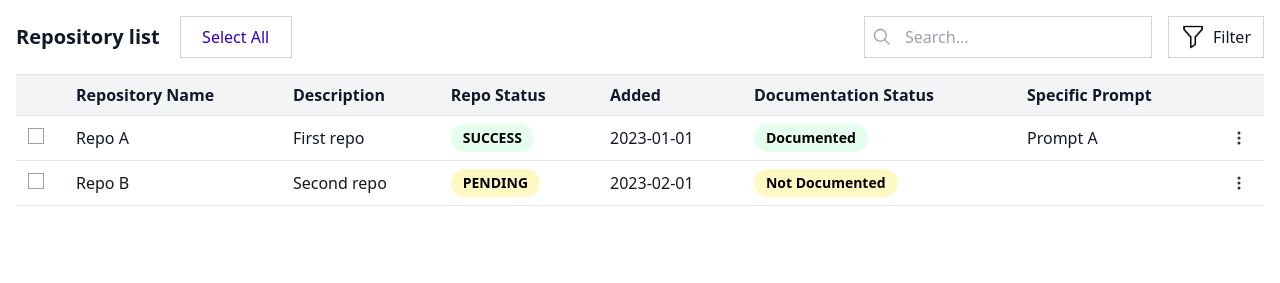
Test case: AdminRepoDataTable - Integration Tests › allows shift-select range
The image size is (1280, 283).
Click the text "First repo" at point(329, 138), box [293, 127, 364, 149]
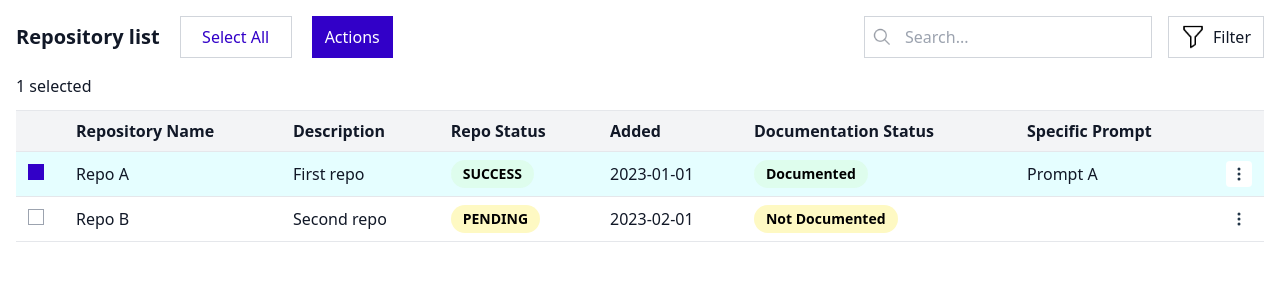
Click the text "Second repo" at point(340, 219), box [293, 208, 387, 230]
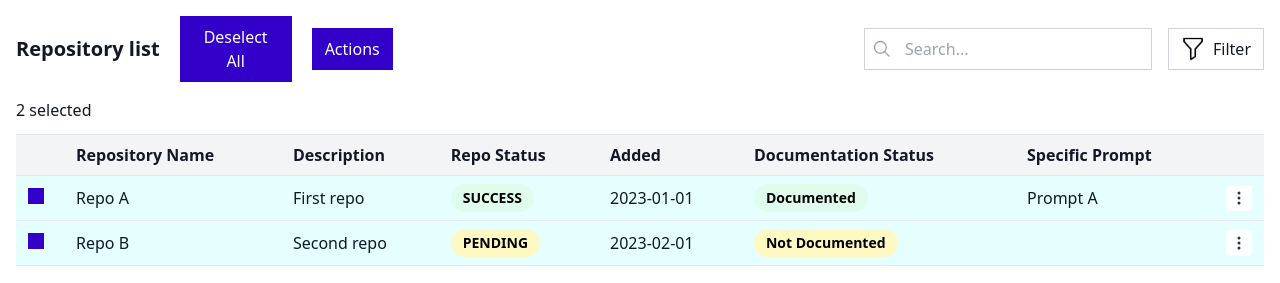
Expected: the text "2 selected" is shown, [16, 99, 92, 121]
